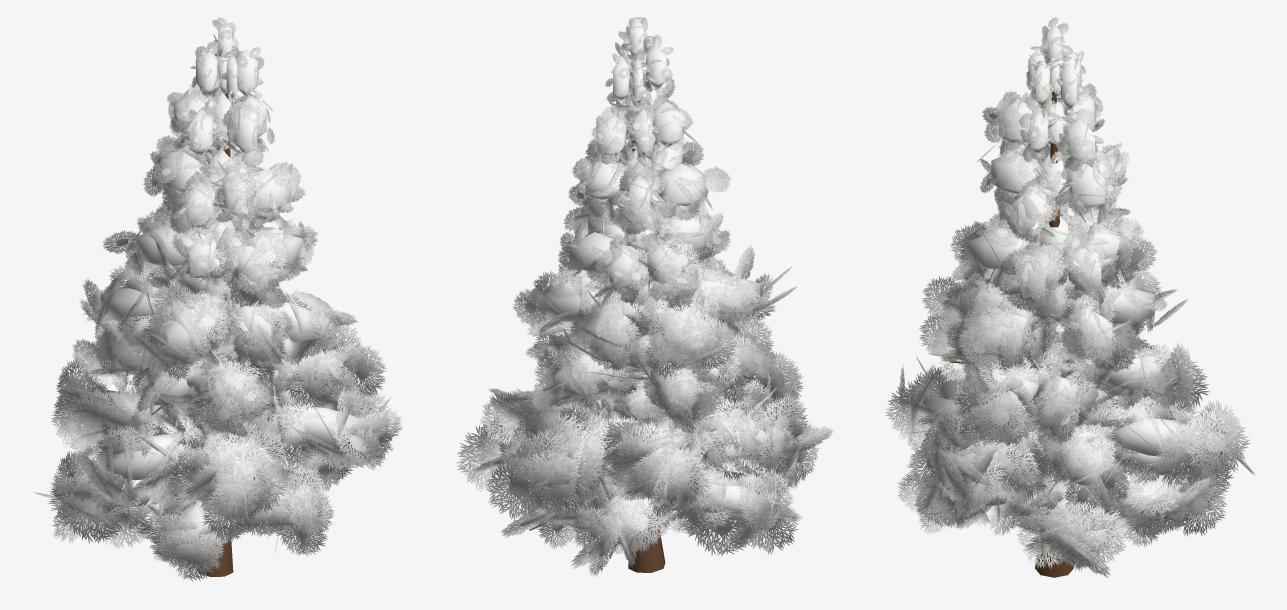
Rendered from gran-hero.glb.
The picture shows the model from 3 angles, left to right: view 1: azimuth 30°, elevation 25°; view 2: azimuth 150°, elevation 25°; view 3: azimuth 270°, elevation 25°; orthographic projection.
Visible parts, largest first — view 1: crown, trunk; view 2: crown, trunk; view 3: crown, trunk.
Part boxes in pixels (<box>): crown: <box>35,17,402,581</box>; trunk: <box>71,93,374,576</box>; crown: <box>456,17,833,576</box>; trunk: <box>505,88,790,572</box>; crown: <box>885,17,1254,577</box>; trunk: <box>922,91,1215,577</box>.
Size of the model in its own units: 13.12 by 19.48 by 12.55.
2 materials, 1 textured.
